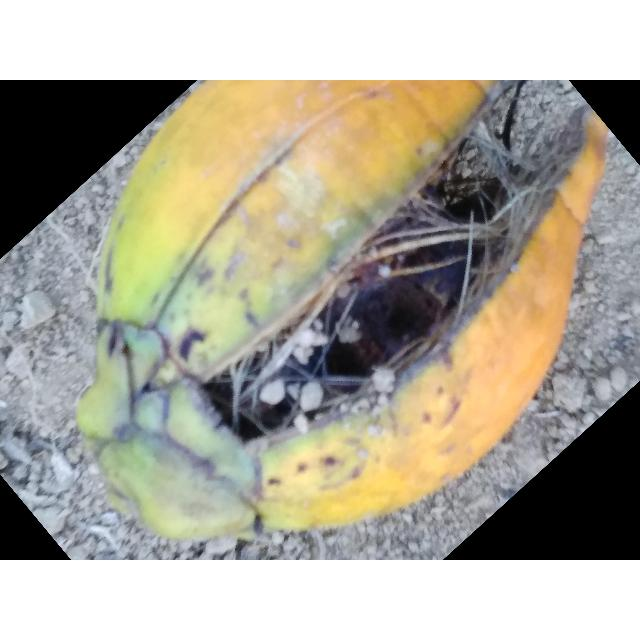damaged: (76, 80, 611, 540)
